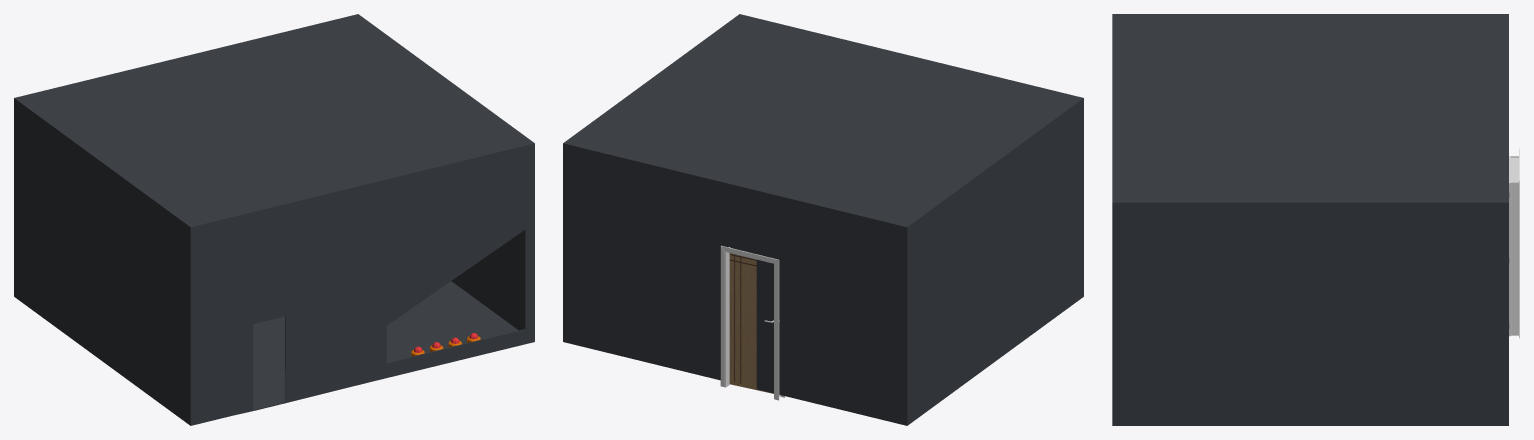
Rendered from ChessControlRoom.fbx.
The picture shows the model from 3 angles, left to right: view 1: azimuth 30°, elevation 25°; view 2: azimuth 150°, elevation 25°; view 3: azimuth 270°, elevation 25°; orthographic projection. The views are drawn at different scales.
Visible parts, largest first — view 1: Cube.001; view 2: Cube.001, Porta pB190, Cube.006, Cube.003, Cube.004; view 3: Cube.001, Cube.004.
Part boxes in pixels (x1,y1,x2,y2): Cube.001: (14, 14, 534, 425); Cube.001: (563, 14, 1083, 425); Porta pB190: (729, 253, 773, 393); Cube.006: (774, 260, 779, 400); Cube.003: (720, 246, 725, 387); Cube.004: (725, 251, 729, 387); Cube.001: (1112, 14, 1508, 425); Cube.004: (1509, 182, 1518, 336).
Size of the model in its own units: 558 by 312 by 509.
Materials: 10 (1 with a texture image).
